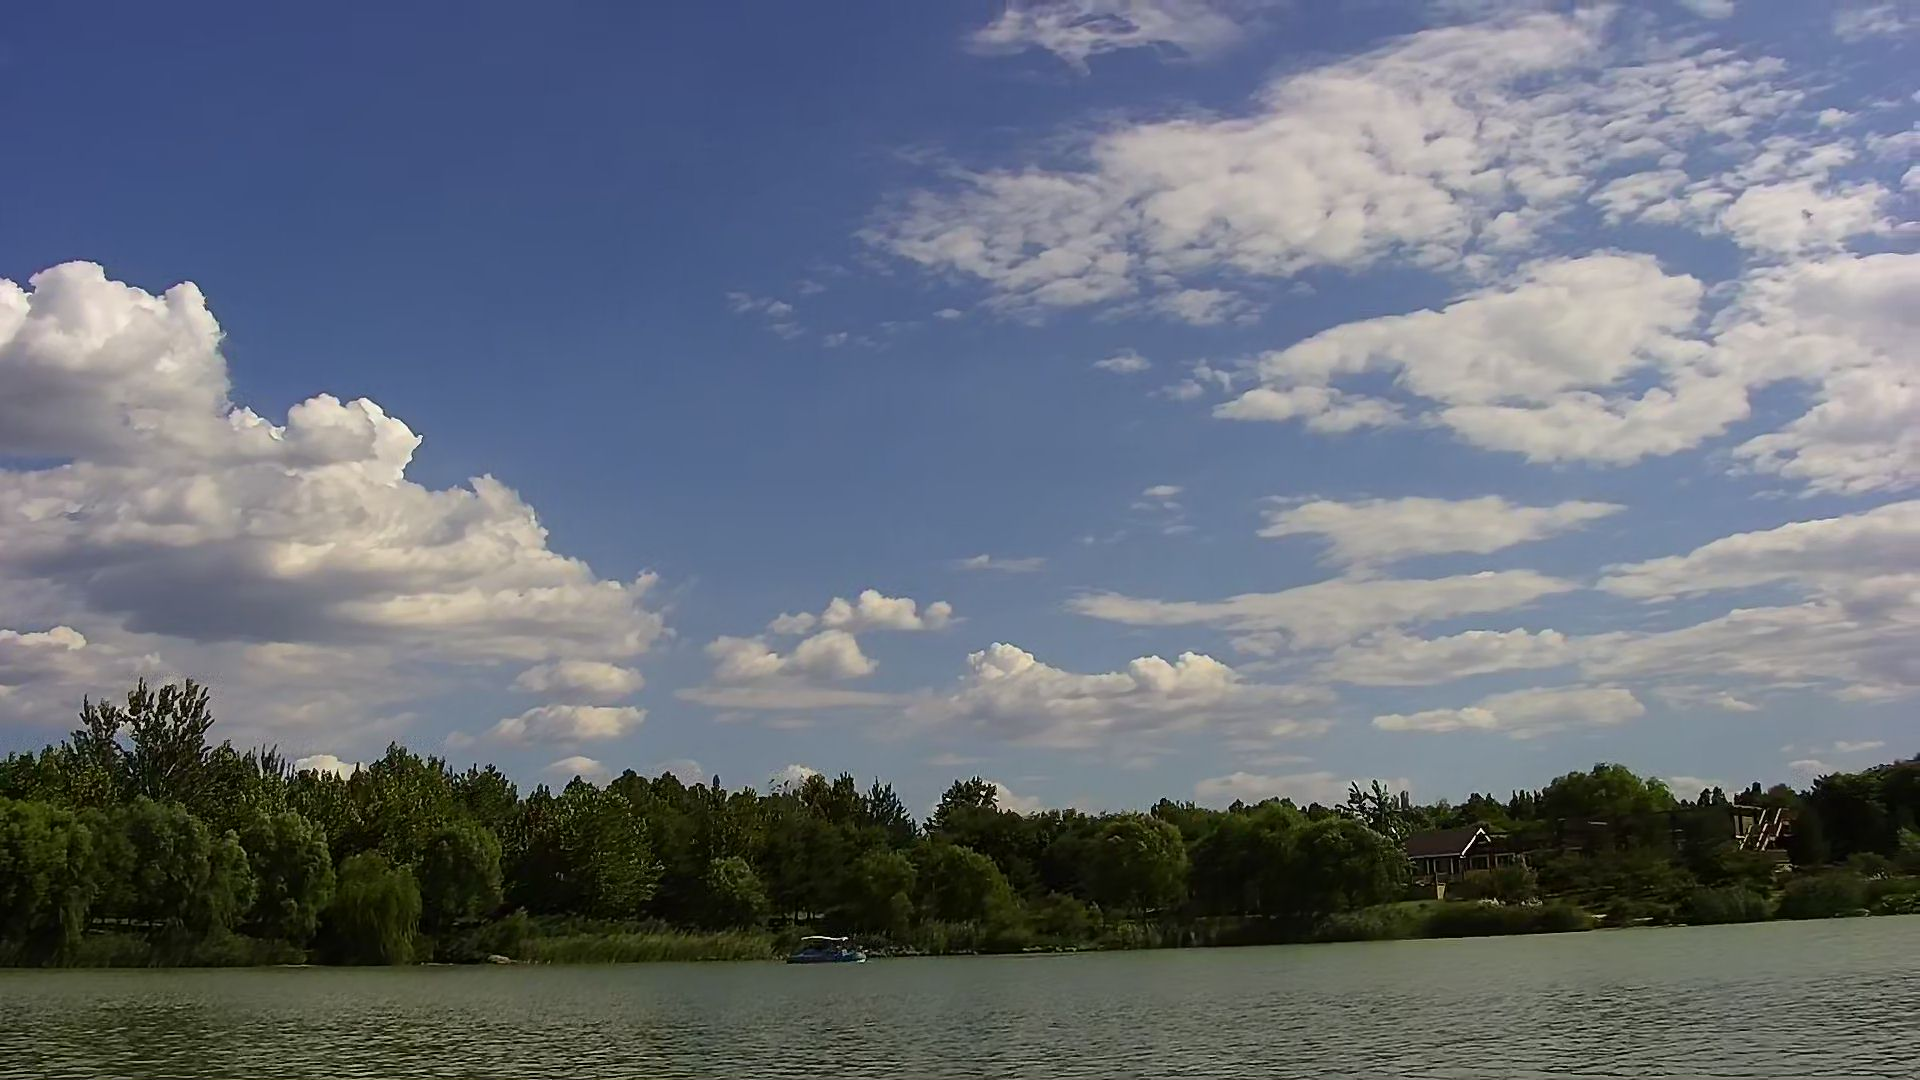boat: (779, 926, 872, 971)
